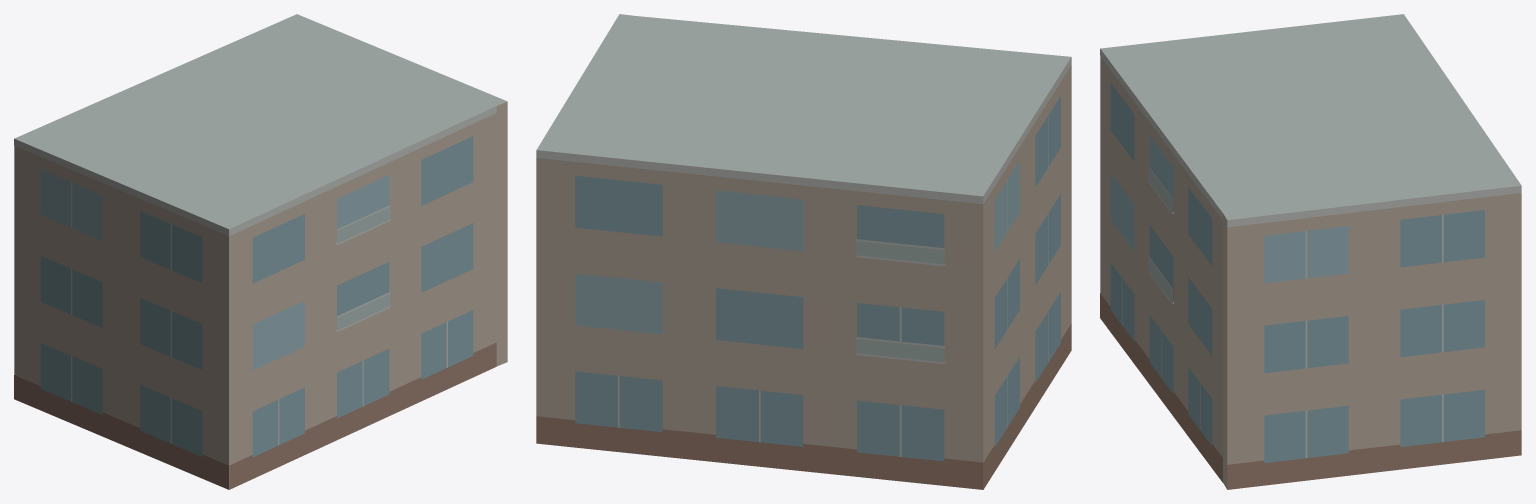
The model's file is survey-upis-33008843.glb.
The picture shows the model from 3 angles, left to right: view 1: azimuth 30°, elevation 25°; view 2: azimuth 150°, elevation 25°; view 3: azimuth 270°, elevation 25°; orthographic projection. The views are drawn at different scales.
Visible parts, largest first — view 1: survey-upis-33008843.tmp; view 2: survey-upis-33008843.tmp; view 3: survey-upis-33008843.tmp.
Part boxes in pixels (x1,y1,x2,y2): survey-upis-33008843.tmp: [14, 14, 507, 489]; survey-upis-33008843.tmp: [536, 14, 1071, 489]; survey-upis-33008843.tmp: [1100, 14, 1521, 489].
Size of the model in its own units: 15.02 by 9.15 by 12.97.
